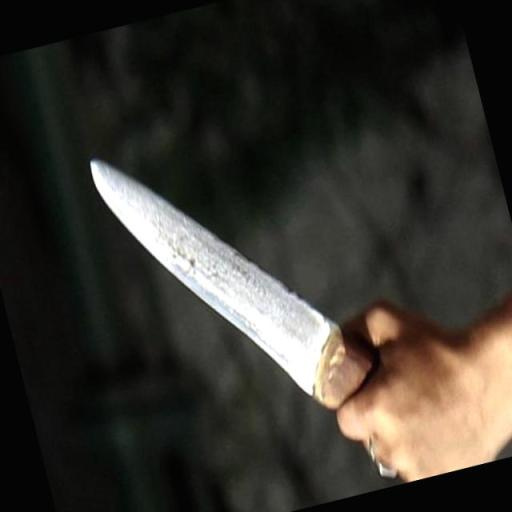knife: (89, 104, 396, 458)
